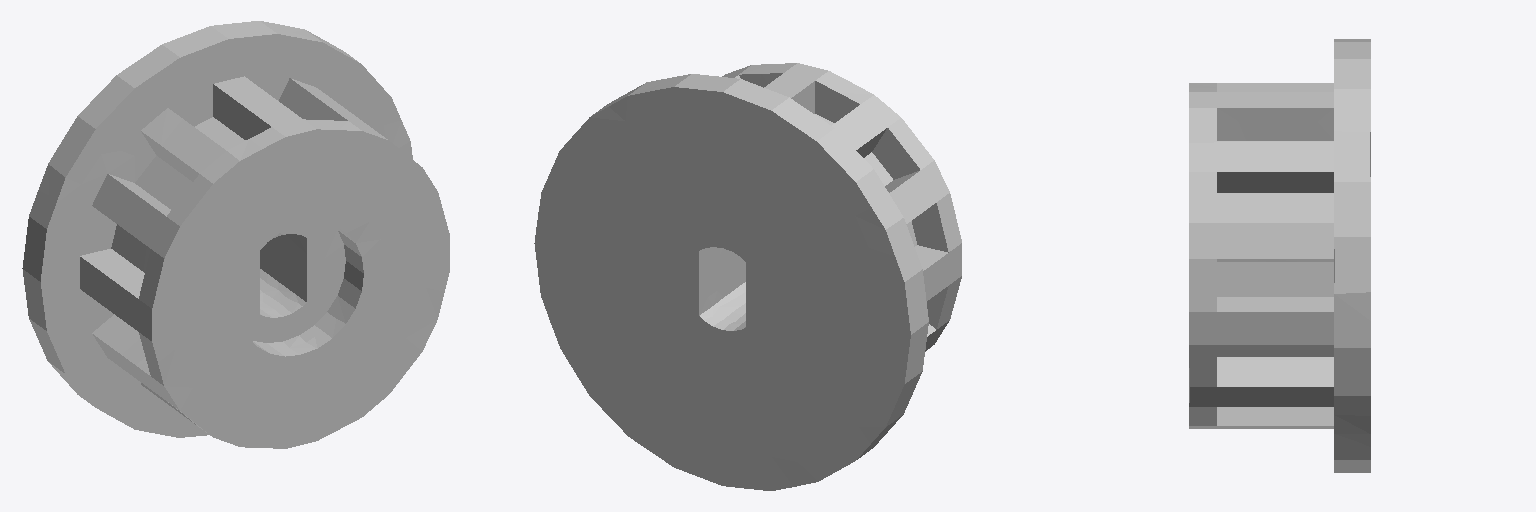
File: GearT5_12.stl__sf.obj
3 renders of one model, left to right at view 1: azimuth 30°, elevation 25°; view 2: azimuth 150°, elevation 25°; view 3: azimuth 270°, elevation 25°, orthographic.
Size of the model in its own units: 24 by 24 by 10.